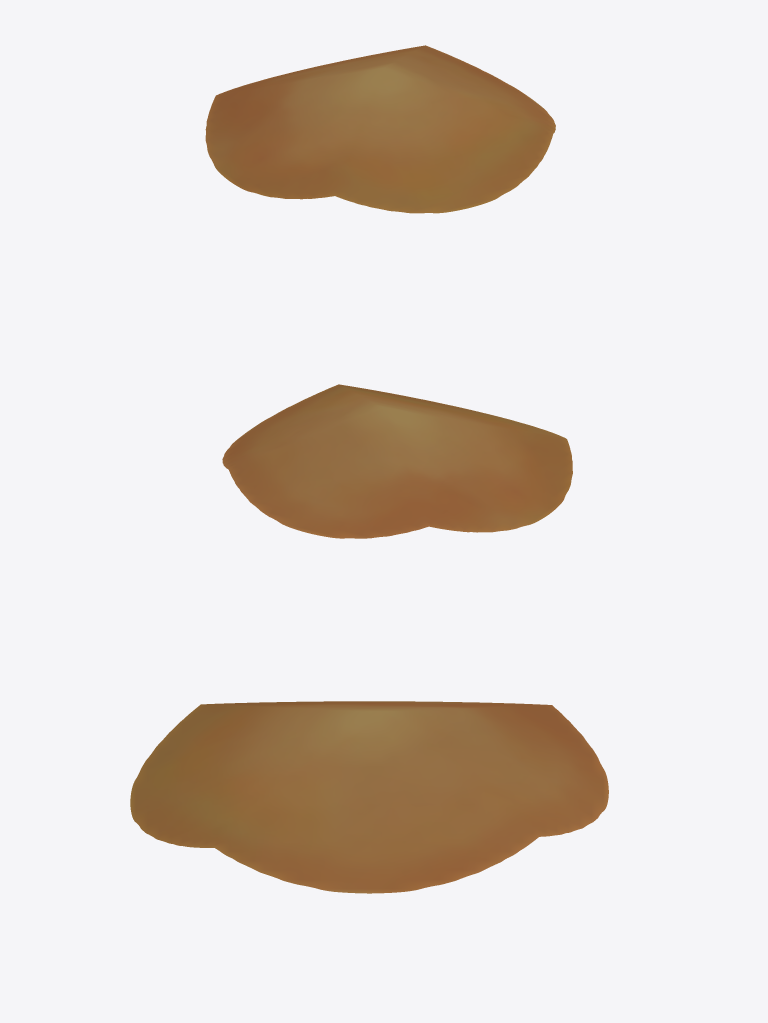
The model's file is main_map_tree_28.fbx.
3 renders of one model, top to bottom at view 1: azimuth 30°, elevation 25°; view 2: azimuth 150°, elevation 25°; view 3: azimuth 270°, elevation 25°, orthographic. The views are drawn at different scales.
Visible parts, largest first — view 1: main_map_tree_28; view 2: main_map_tree_28; view 3: main_map_tree_28.
Boxes of the visible parts, left/top/right/bottom form: main_map_tree_28: left=205, top=45, right=555, bottom=213; main_map_tree_28: left=222, top=384, right=572, bottom=538; main_map_tree_28: left=130, top=701, right=608, bottom=893.
Bounding box in the file's own units: 28.03 × 5.85 × 28.03.
